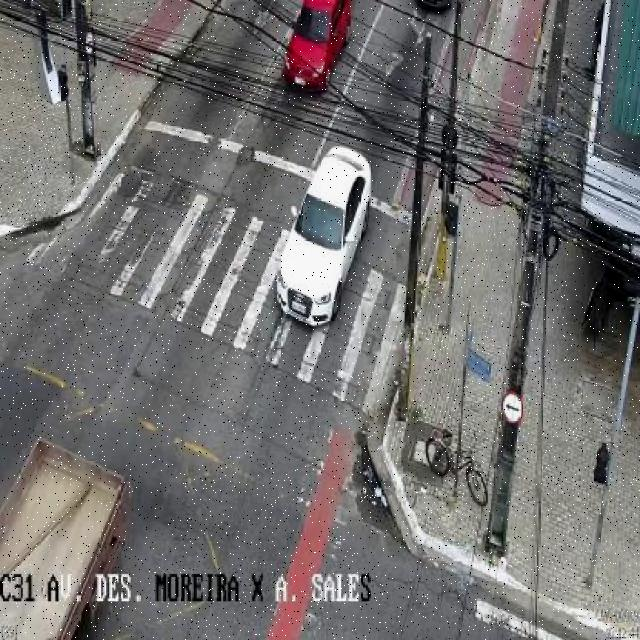bicycle: (426, 430, 486, 508)
car: (277, 142, 368, 328), (282, 0, 350, 94)
